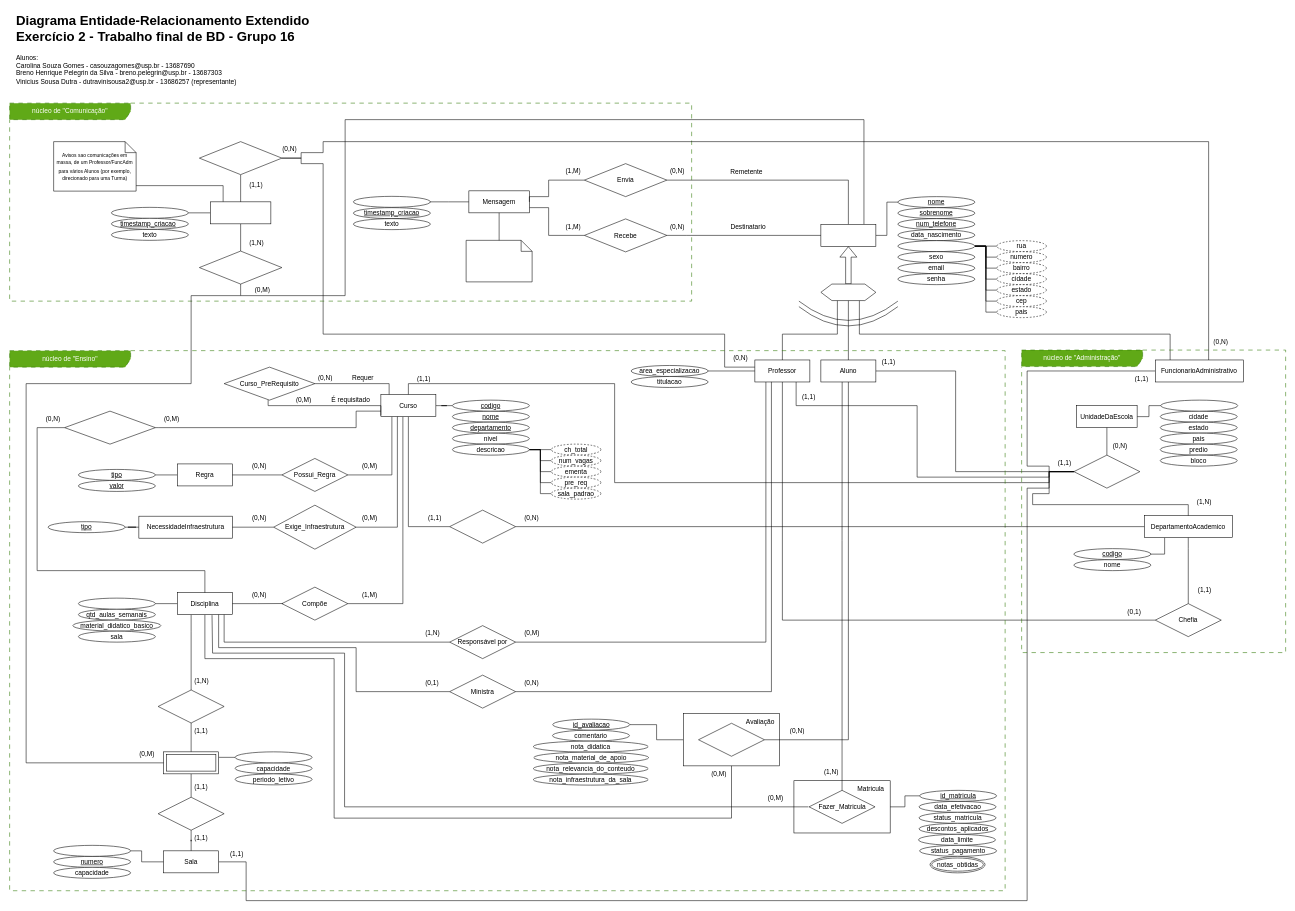
Some shapes in this 1295 by 911 pixel diagram are drawn without their labels. Here are the shapes that lost their labels. From the top down, the centre of each, then its label:
At (240,158): "Publica".
At (149,212): "id_aviso".
At (240,212): "Aviso".
At (391,201): "id_mensagem".
At (848,235): "Usuario".
At (936,246): "endereco".
At (240,267): "Direcionado_Para".
At (499,261): "Mensagens são comunicações de vários usuários para vários usuários".
At (848,292): "Vinculo".
At (1199,405): "id_unidade".
At (109,427): "Disciplina_PreRequisito".
At (1106,471): "Pertence_A".
At (482,526): "Pertence_Depto".
At (116,603): "id_disciplina".
At (191,706): "Oferece_Turma".
At (273,757): "id_turma".
At (731,739): "Fazer_Avaliacao".
At (191,762): "Turma".
At (191,813): "Usa_Sala".
At (92,850): "unidade_escola".
